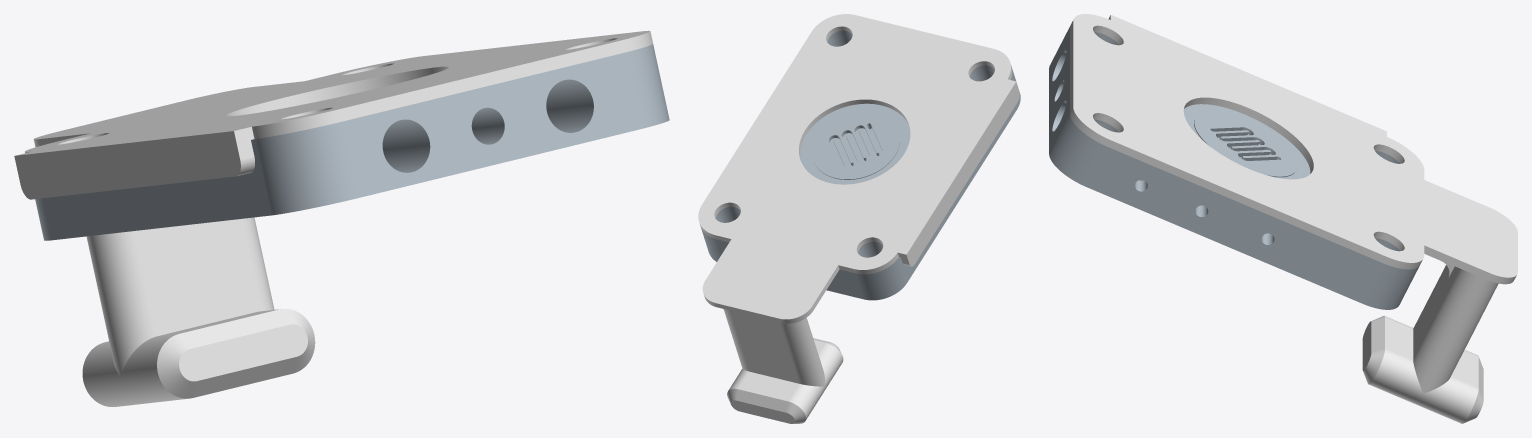
Rendered from ti_cathode_plate.obj.
3 renders of one model, left to right at view 1: azimuth 30°, elevation 25°; view 2: azimuth 150°, elevation 25°; view 3: azimuth 270°, elevation 25°, orthographic. The views are drawn at different scales.
Parts seen in each view (by area): view 1: mesh2, mesh94, mesh126, mesh115, mesh5, mesh4, mesh128, mesh132, mesh138, mesh98, mesh3, mesh93 (+9 smaller); view 2: mesh94, mesh48, mesh130, mesh115, mesh50, mesh128, mesh132, mesh6, mesh131, mesh45, mesh5, mesh7 (+8 smaller); view 3: mesh94, mesh9, mesh127, mesh133, mesh48, mesh100, mesh3, mesh8, mesh2, mesh50, mesh126, mesh93 (+4 smaller).
Boxes of the visible parts, bbox=[...] form: mesh2: bbox=[341, 54, 635, 197]; mesh94: bbox=[16, 30, 650, 155]; mesh126: bbox=[134, 219, 256, 336]; mesh115: bbox=[14, 131, 240, 199]; mesh5: bbox=[42, 139, 270, 240]; mesh4: bbox=[254, 122, 357, 215]; mesh128: bbox=[86, 231, 156, 376]; mesh132: bbox=[82, 334, 187, 406]; mesh138: bbox=[179, 324, 307, 381]; mesh98: bbox=[338, 42, 618, 121]; mesh3: bbox=[619, 44, 669, 130]; mesh93: bbox=[226, 66, 448, 116]; mesh94: bbox=[698, 14, 1015, 319]; mesh48: bbox=[811, 112, 899, 179]; mesh130: bbox=[730, 310, 798, 383]; mesh115: bbox=[906, 82, 1019, 266]; mesh50: bbox=[800, 103, 910, 184]; mesh128: bbox=[780, 318, 824, 386]; mesh132: bbox=[788, 342, 843, 419]; mesh6: bbox=[855, 257, 906, 300]; mesh131: bbox=[738, 371, 798, 401]; mesh45: bbox=[830, 128, 882, 167]; mesh5: bbox=[899, 105, 1016, 282]; mesh7: bbox=[717, 239, 863, 299]; mesh94: bbox=[1073, 14, 1517, 277]; mesh9: bbox=[1087, 147, 1383, 303]; mesh127: bbox=[1413, 269, 1498, 393]; mesh133: bbox=[1369, 348, 1478, 423]; mesh48: bbox=[1194, 111, 1297, 176]; mesh100: bbox=[1107, 140, 1386, 263]; mesh3: bbox=[1049, 113, 1106, 186]; mesh8: bbox=[1363, 263, 1419, 309]; mesh2: bbox=[1049, 28, 1069, 153]; mesh50: bbox=[1183, 104, 1310, 179]; mesh126: bbox=[1413, 265, 1459, 359]; mesh93: bbox=[1184, 97, 1313, 173].
Size of the model in its own units: 0.0575 by 0.0731 by 0.0908.
